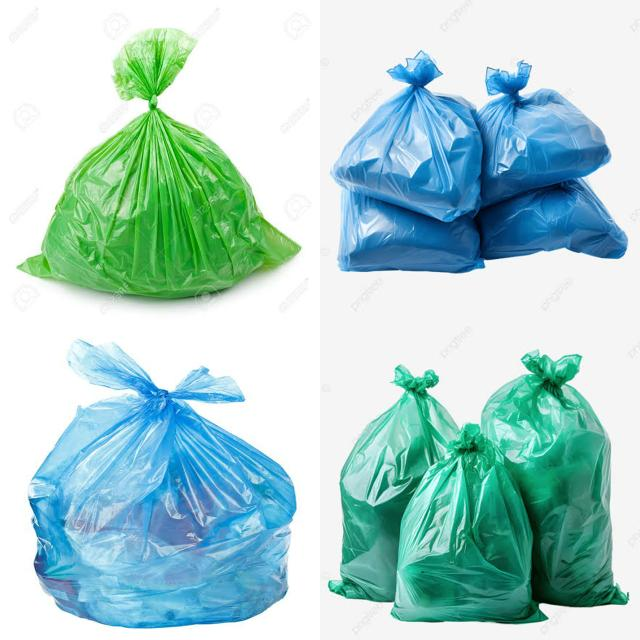Single-layer Plastic: (30, 340, 296, 628), (20, 28, 300, 298), (481, 351, 625, 606), (329, 365, 459, 601), (391, 424, 545, 622), (331, 51, 482, 222), (476, 61, 611, 208), (475, 179, 628, 260), (338, 189, 484, 272)
